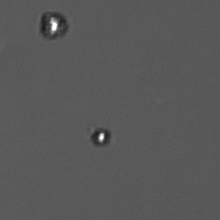Living Cell: (35, 9, 72, 41), (88, 125, 114, 148)
